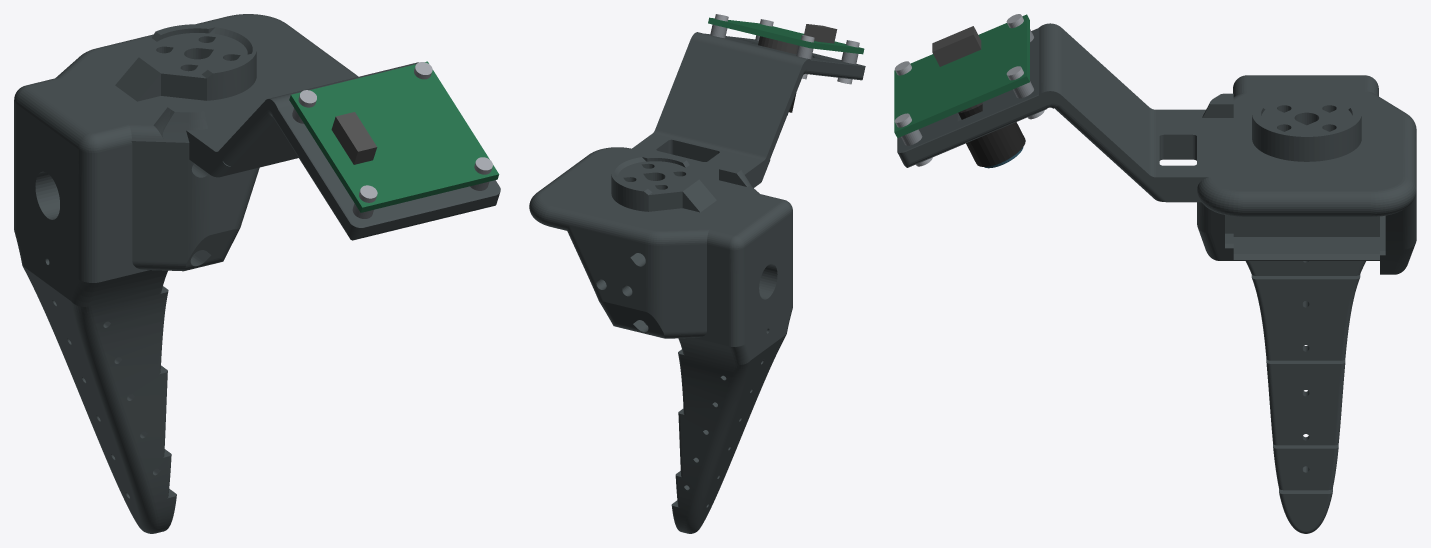
Rendered from camera-wrist-so101-v9.glb.
The picture shows the model from 3 angles, left to right: view 1: azimuth 30°, elevation 25°; view 2: azimuth 150°, elevation 25°; view 3: azimuth 270°, elevation 25°; orthographic projection. The views are drawn at different scales.
Parts seen in each view (by area): view 1: SO101_32x32_integrated_wrist_camera_mount_camera_export, UVC_32x32_PCB_27mm_hole_pattern_camera_export, UVC_header_camera_export; view 2: SO101_32x32_integrated_wrist_camera_mount_camera_export, UVC_32x32_PCB_27mm_hole_pattern_camera_export, UVC_header_camera_export; view 3: SO101_32x32_integrated_wrist_camera_mount_camera_export, UVC_32x32_PCB_27mm_hole_pattern_camera_export, UVC_M12_barrel_camera_export, UVC_header_camera_export.
Part boxes in pixels (x1,y1,x2,y2): SO101_32x32_integrated_wrist_camera_mount_camera_export: [14, 14, 500, 533]; UVC_32x32_PCB_27mm_hole_pattern_camera_export: [289, 61, 499, 212]; UVC_header_camera_export: [331, 112, 377, 164]; SO101_32x32_integrated_wrist_camera_mount_camera_export: [529, 32, 865, 533]; UVC_32x32_PCB_27mm_hole_pattern_camera_export: [708, 17, 864, 54]; UVC_header_camera_export: [804, 24, 837, 43]; SO101_32x32_integrated_wrist_camera_mount_camera_export: [897, 23, 1416, 533]; UVC_32x32_PCB_27mm_hole_pattern_camera_export: [894, 14, 1029, 137]; UVC_M12_barrel_camera_export: [958, 104, 1025, 166]; UVC_header_camera_export: [932, 26, 981, 66].
Bounding box in the file's own units: 0.0652 × 0.124 × 0.1142.
